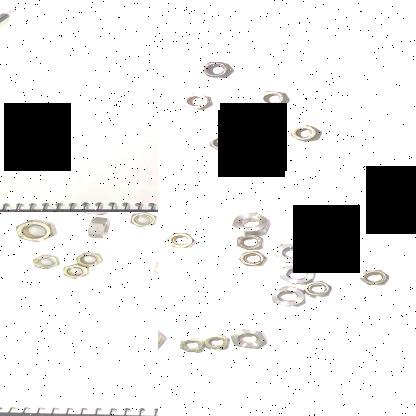Bolts: (0, 10, 13, 38)
NUTS: (8, 218, 60, 243), (272, 240, 318, 263), (278, 262, 318, 288), (226, 212, 274, 233), (269, 284, 306, 310), (352, 265, 390, 288), (229, 328, 266, 351), (163, 231, 201, 253), (84, 214, 113, 242), (197, 59, 236, 79), (286, 124, 322, 144), (254, 89, 289, 109), (204, 134, 240, 153), (178, 92, 212, 112), (28, 253, 62, 273), (233, 232, 266, 252), (295, 280, 331, 298), (174, 336, 206, 356), (235, 248, 266, 268), (204, 332, 232, 353), (58, 262, 90, 280), (127, 212, 158, 229), (75, 251, 103, 268), (75, 212, 120, 217), (149, 256, 158, 280)
